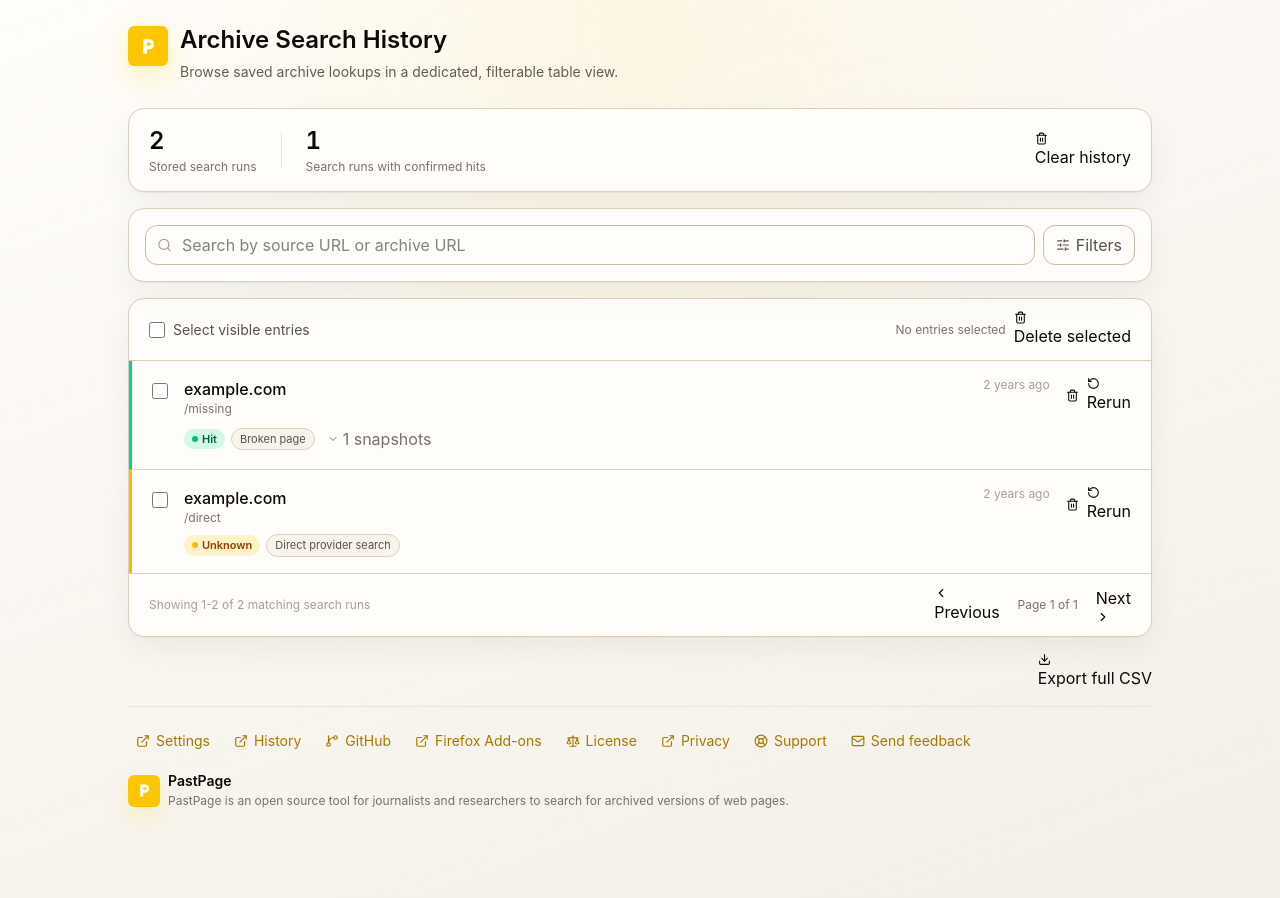
Test: HistoryApp › renders the history table stats and filters
Expected: the text "Stored search runs" is shown, top-left (149, 159), bottom-right (257, 175)
Expected: the text "Search runs with confirmed hits" is shown, top-left (306, 159), bottom-right (486, 175)
Step 1. Type "direct" into the search field named "Search history" → (590, 245), box top-left (145, 225), bottom-right (1035, 265)
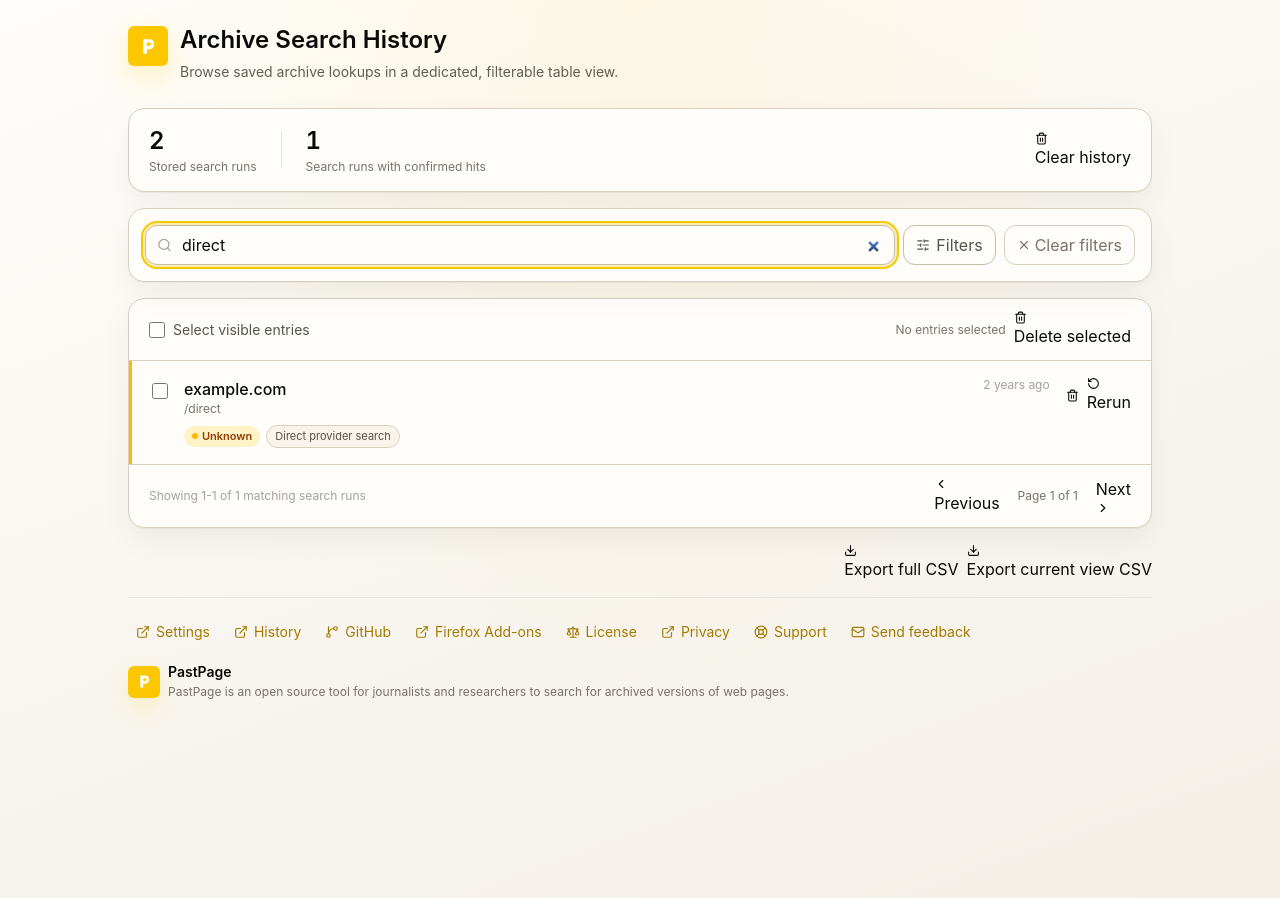
Expected: the text "/direct" is shown, top-left (184, 401), bottom-right (221, 416)
Now the text "/missing" is gone
Step 2. Clear the search field named "Search history" → (520, 245), box top-left (145, 225), bottom-right (895, 265)
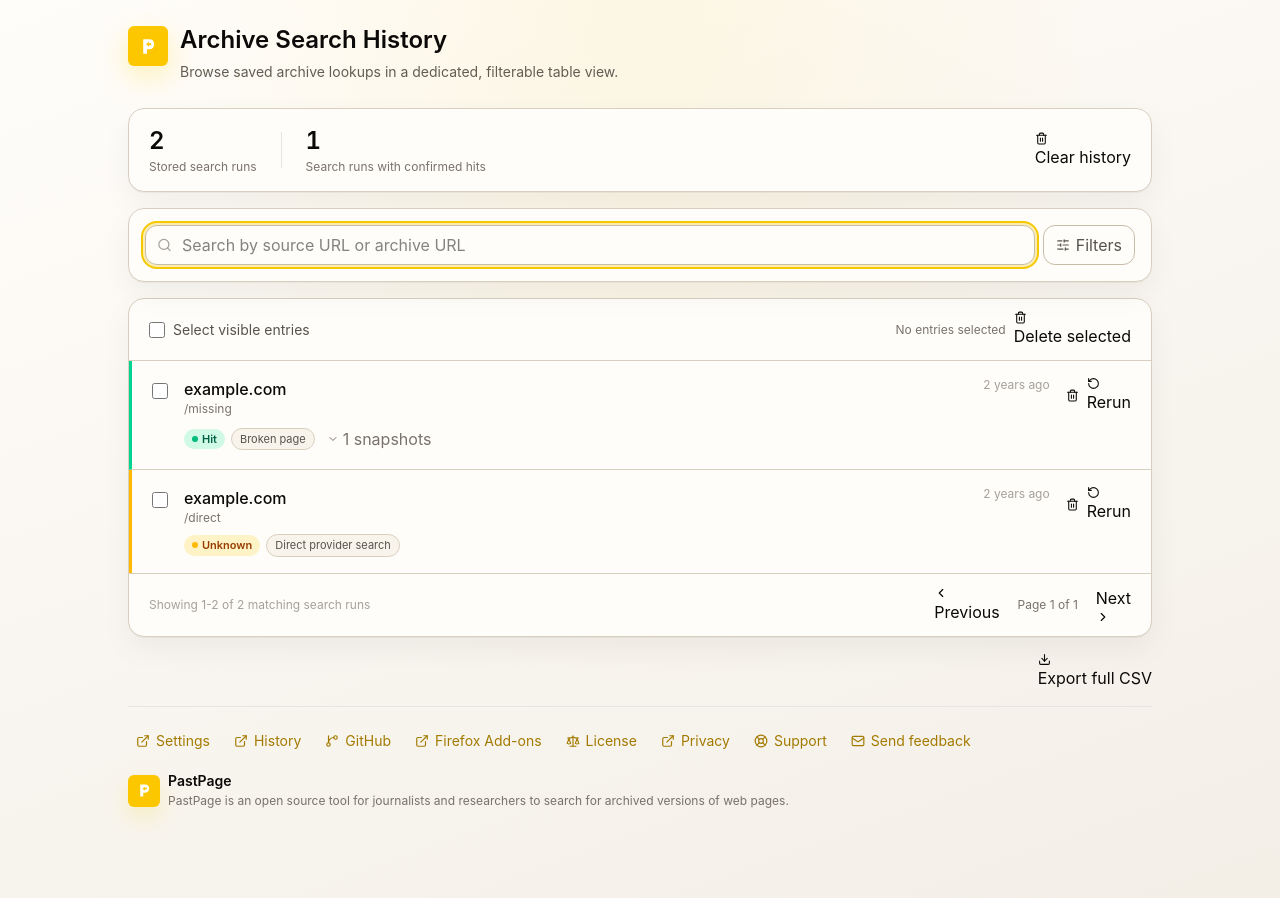
Step 3. Click the button "Filters" → (1089, 245), box top-left (1043, 225), bottom-right (1135, 265)
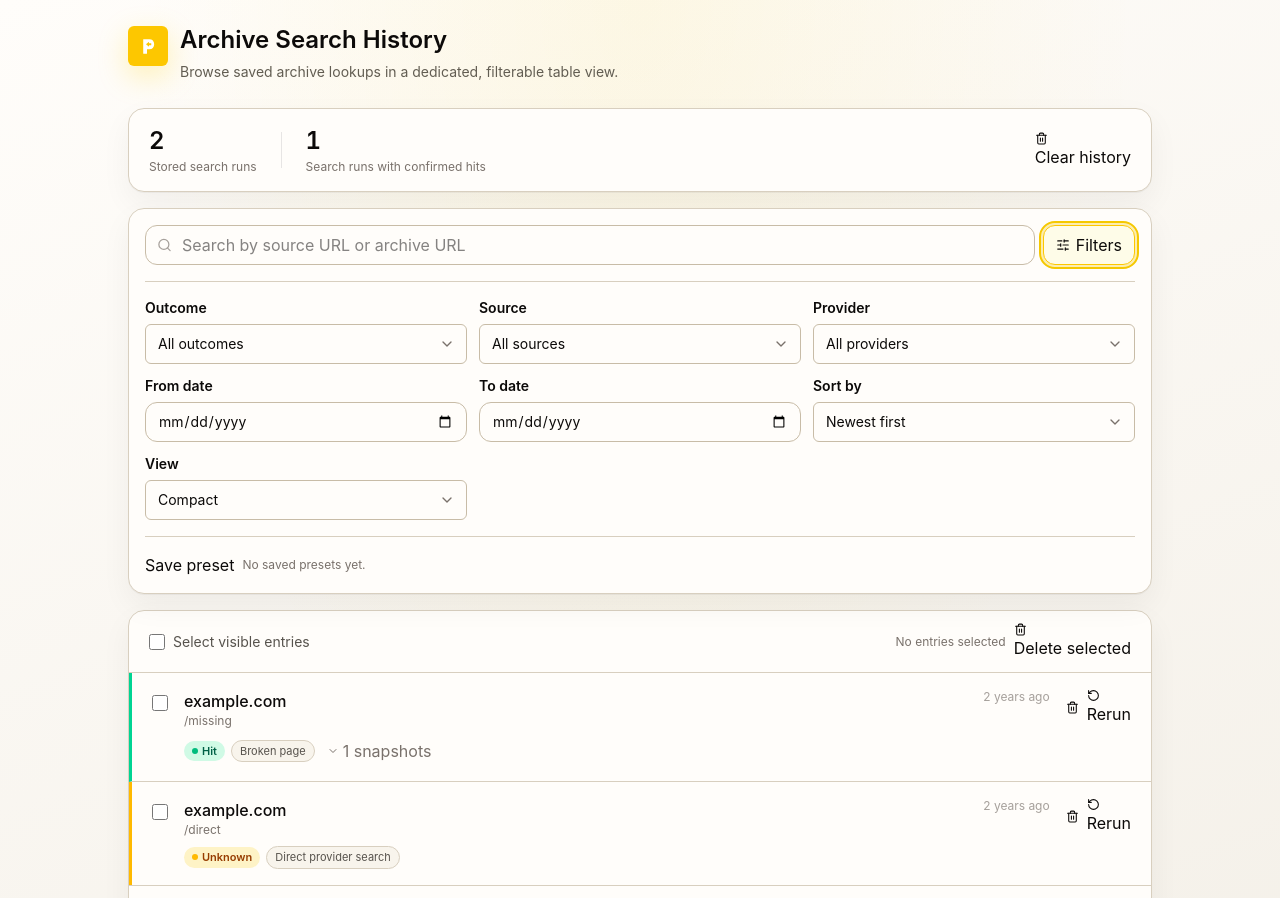
Step 4. Select "Hit" in the dropdown labelled "Outcome" → (306, 344), box top-left (145, 324), bottom-right (467, 364)
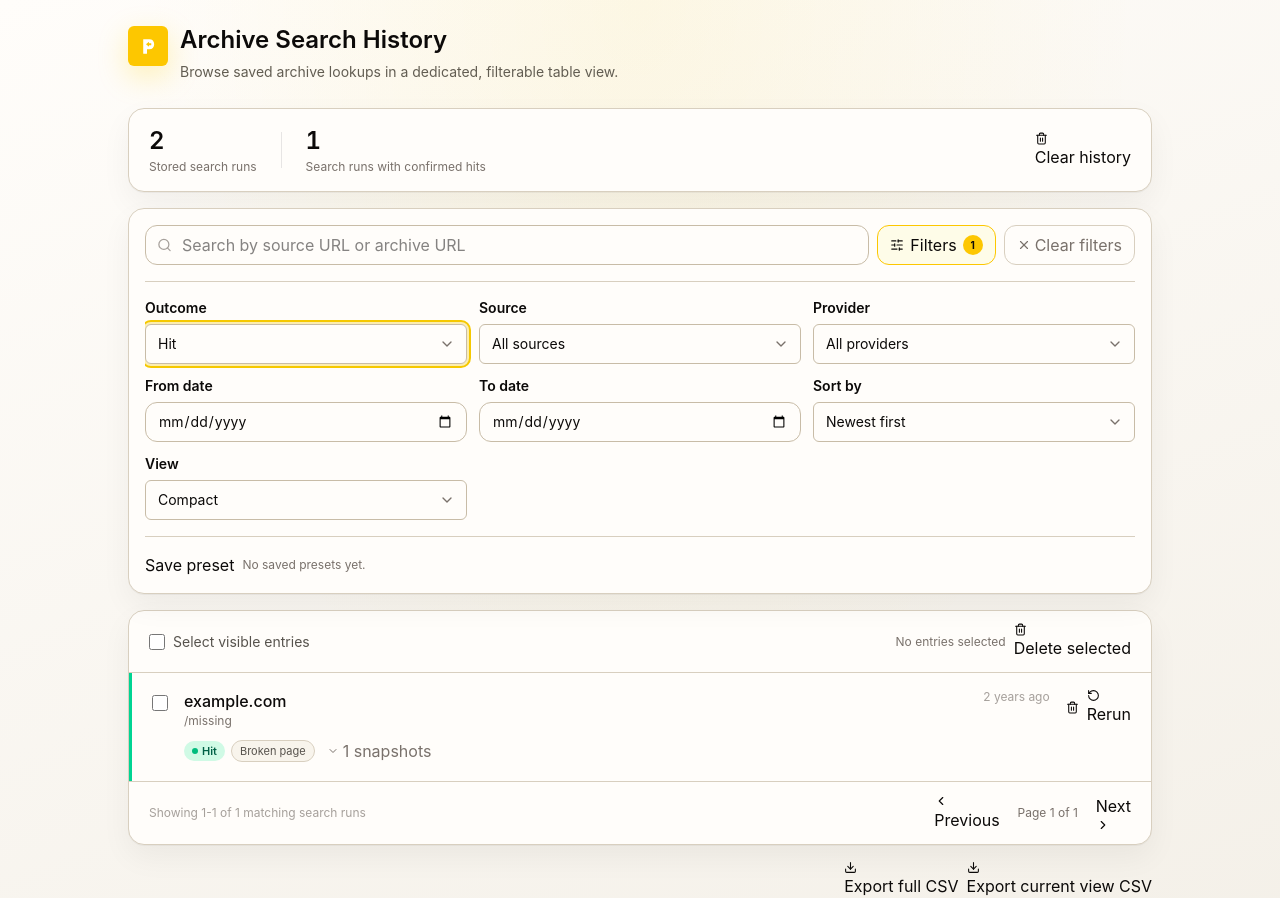
Now the text "/missing" is shown, box top-left (184, 713), bottom-right (232, 728)
Now the text "/direct" is gone
